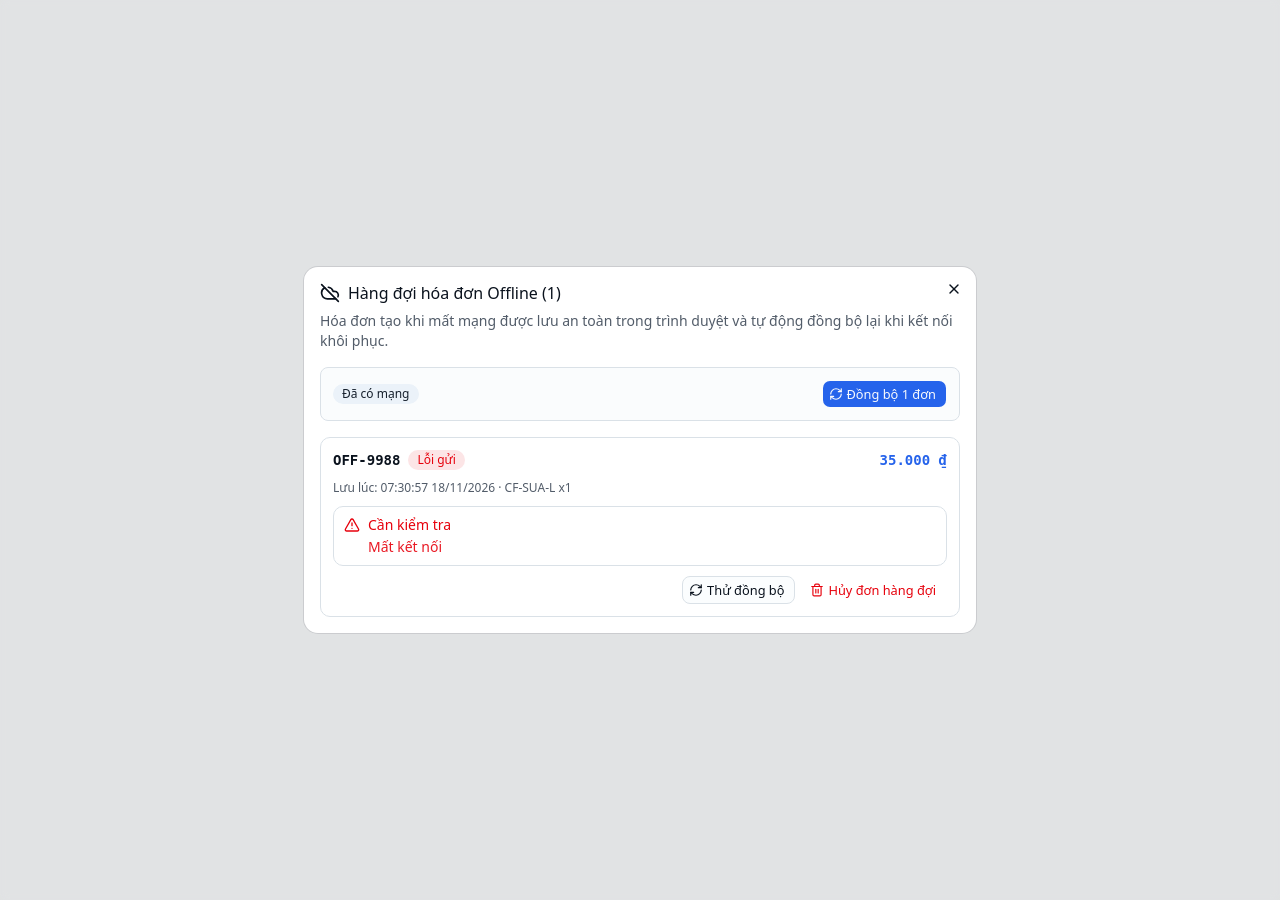
Scenario: UI/UX Enhancements & Regressions Suite › asks ConfirmDialog before discarding an invoice in OfflineQueueDialog
Later steps or results of the test are not shown.
Click the button "Hủy đơn hàng đợi" at (875, 590), box [804,576,947,604]
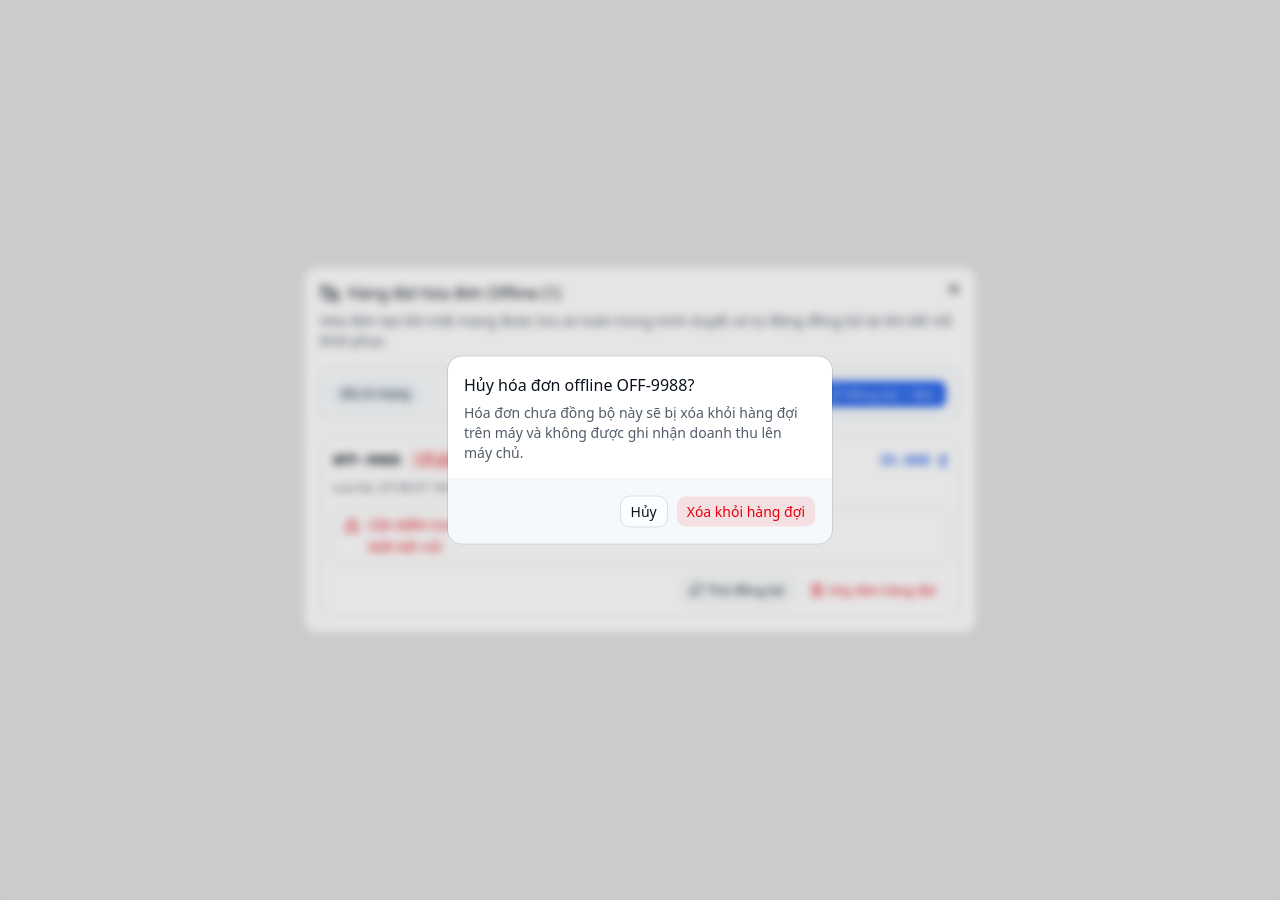
Check: the heading "Hủy hóa đơn offline OFF-9988?" is shown, box [464,372,694,396]
